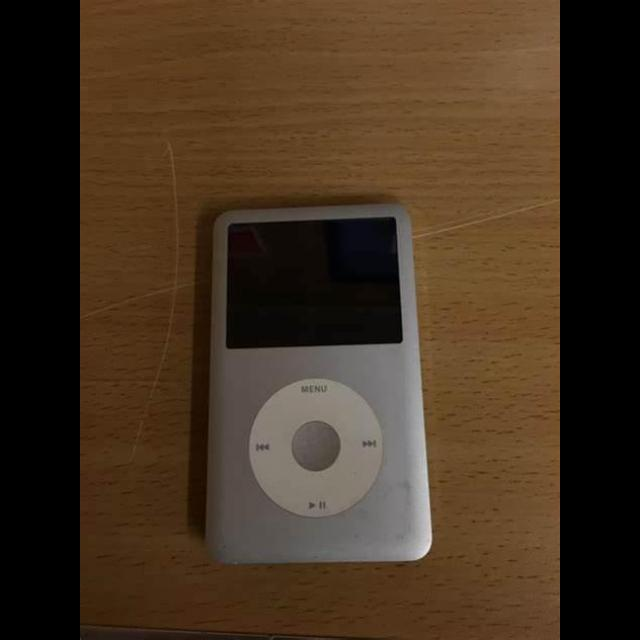Music-Player: (186, 186, 444, 572)
